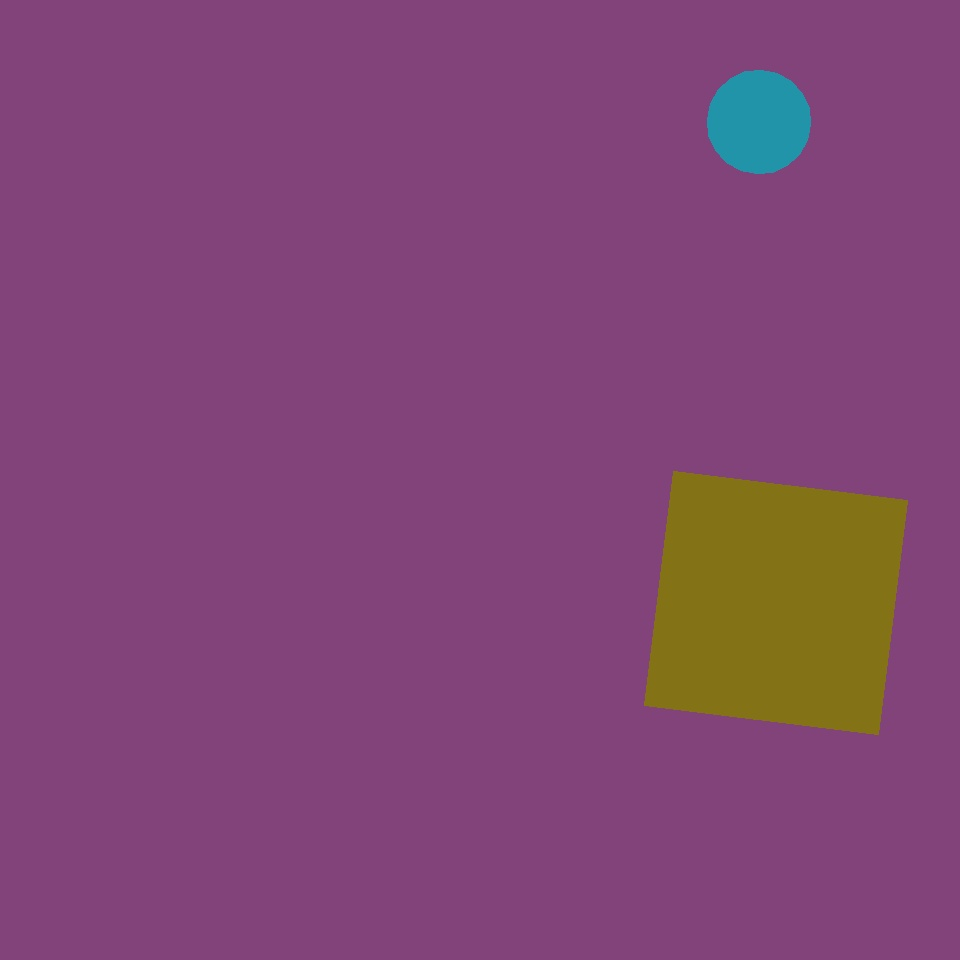circle: (200, 259, 396, 436)
square: (644, 472, 908, 734), (262, 583, 448, 769)
triangle: (20, 57, 260, 297), (489, 500, 717, 729), (347, 577, 540, 771), (708, 70, 810, 174)
